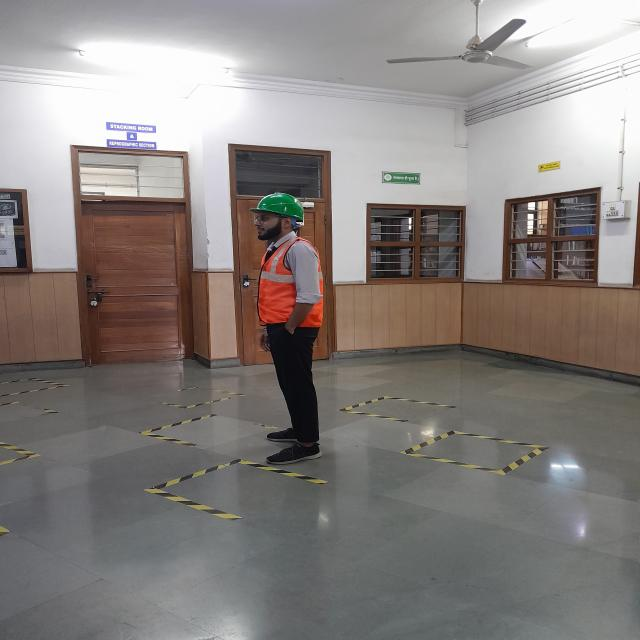safe: (249, 194, 323, 464)
